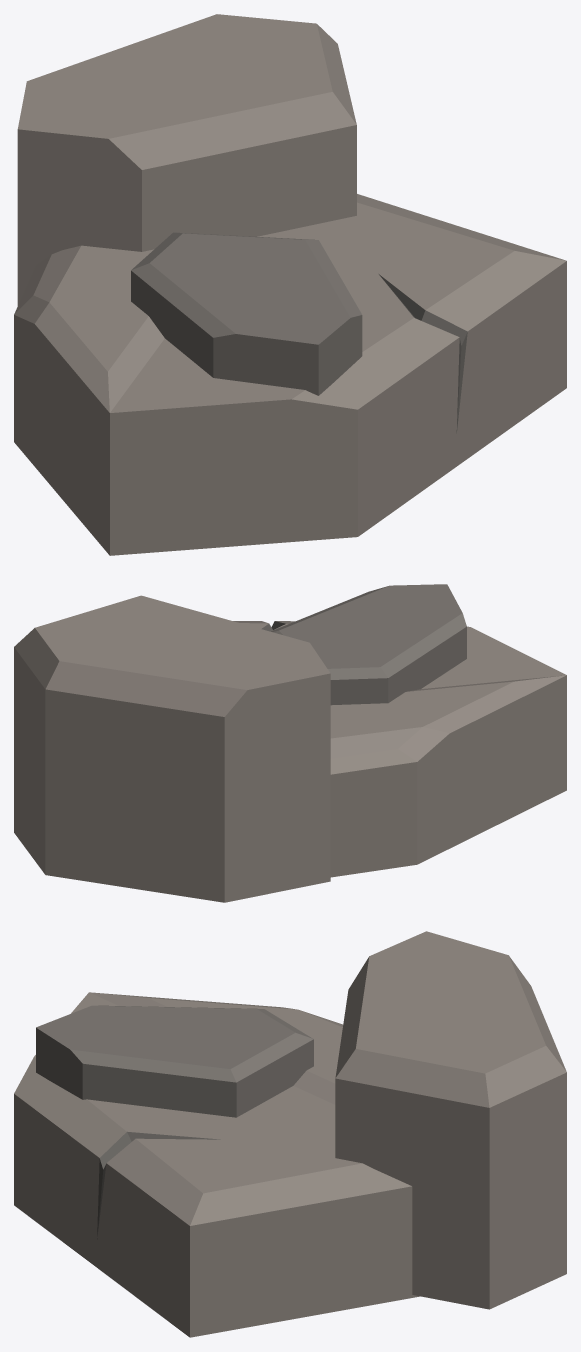
File: flatrock3.fbx
3 renders of one model, top to bottom at view 1: azimuth 30°, elevation 25°; view 2: azimuth 150°, elevation 25°; view 3: azimuth 270°, elevation 25°, orthographic. The views are drawn at different scales.
Visible parts, largest first — view 1: FlatRock3; view 2: FlatRock3; view 3: FlatRock3.
Boxes of the visible parts, x1,y1,x2,y2 form: FlatRock3: (14, 14, 566, 555); FlatRock3: (14, 584, 566, 902); FlatRock3: (14, 931, 566, 1337).
Bounding box in the file's own units: 1.47 × 0.7142 × 1.56.
